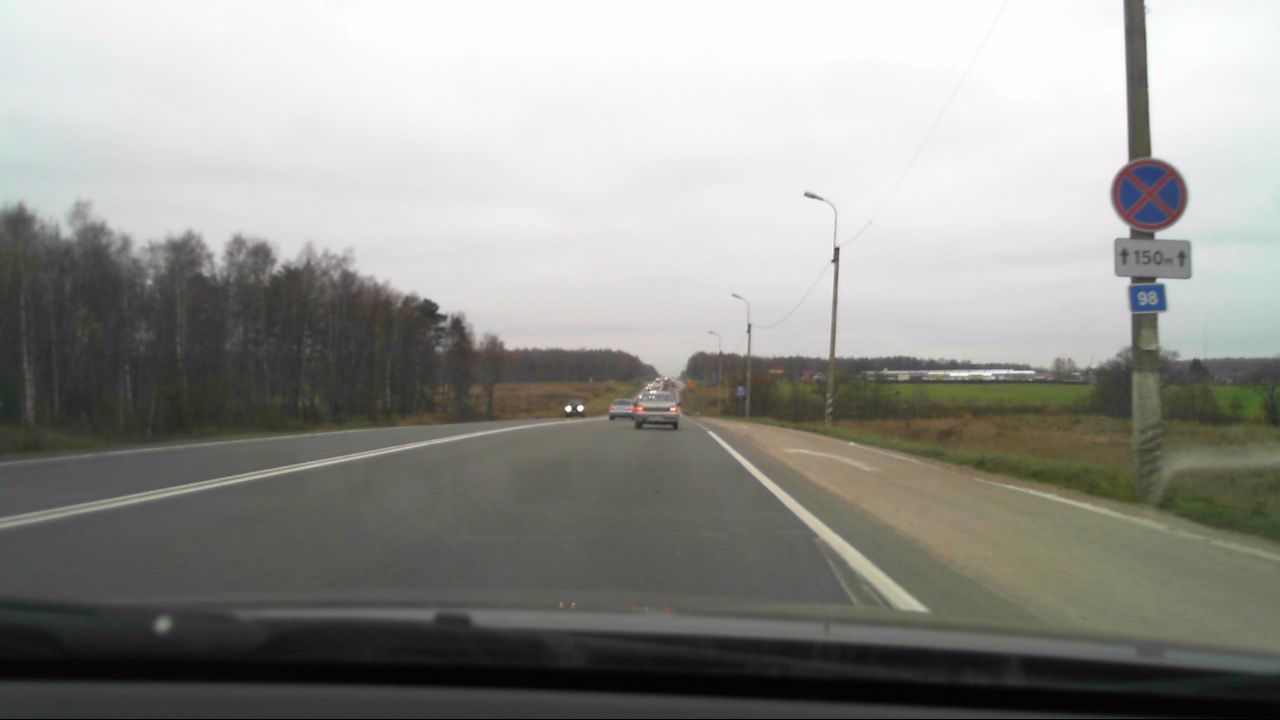No Parking: (1107, 157, 1192, 233)
